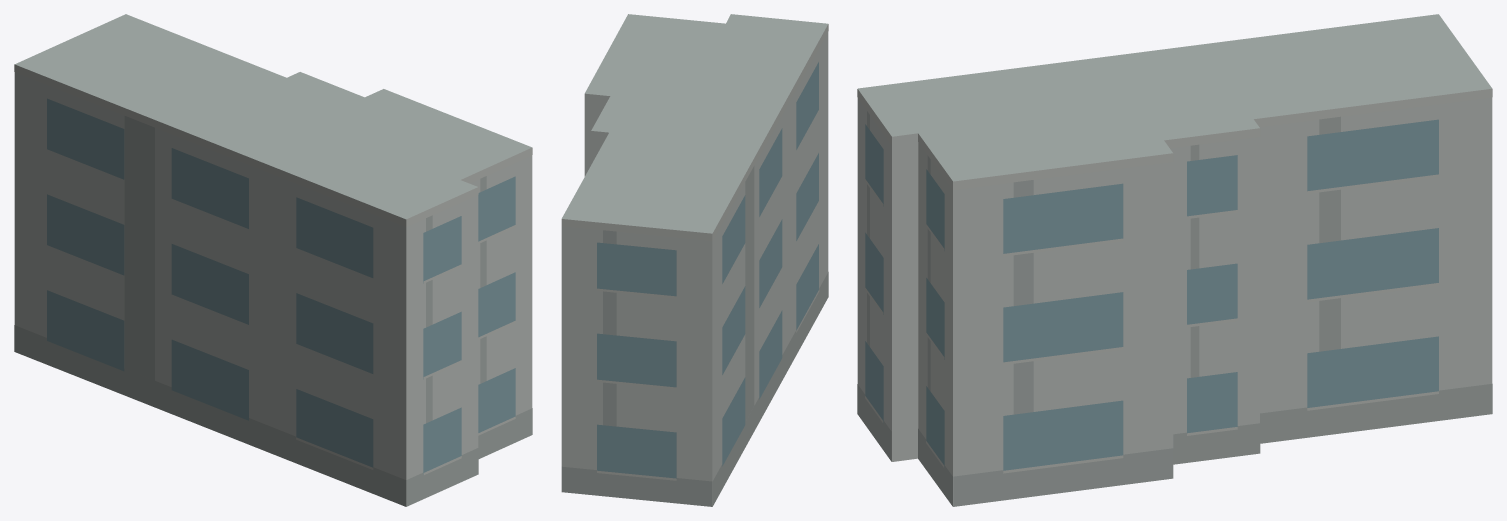
The model's file is residential-ec9f9ad9-e442-4693-9470-56a3950a405b.glb.
3 views of the same model, side by side, from view 1: azimuth 30°, elevation 25°; view 2: azimuth 150°, elevation 25°; view 3: azimuth 270°, elevation 25° (orthographic). The views are drawn at different scales.
Visible parts, largest first — view 1: residential-ec9f9ad9-e442-4693-9470-56a3950a405b.tmp; view 2: residential-ec9f9ad9-e442-4693-9470-56a3950a405b.tmp; view 3: residential-ec9f9ad9-e442-4693-9470-56a3950a405b.tmp.
Boxes of the visible parts, left/top/right/bottom form: residential-ec9f9ad9-e442-4693-9470-56a3950a405b.tmp: left=14, top=14, right=532, bottom=506; residential-ec9f9ad9-e442-4693-9470-56a3950a405b.tmp: left=561, top=14, right=828, bottom=506; residential-ec9f9ad9-e442-4693-9470-56a3950a405b.tmp: left=857, top=14, right=1492, bottom=506.
Size of the model in its own units: 10.11 by 9.15 by 16.2.
